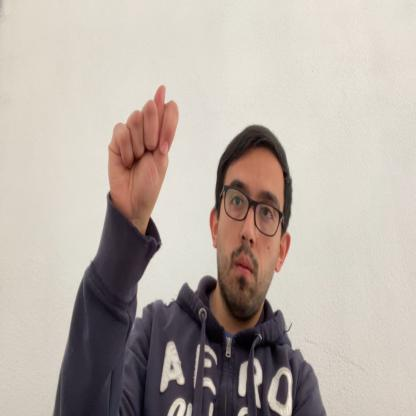T: (107, 84, 179, 215)
